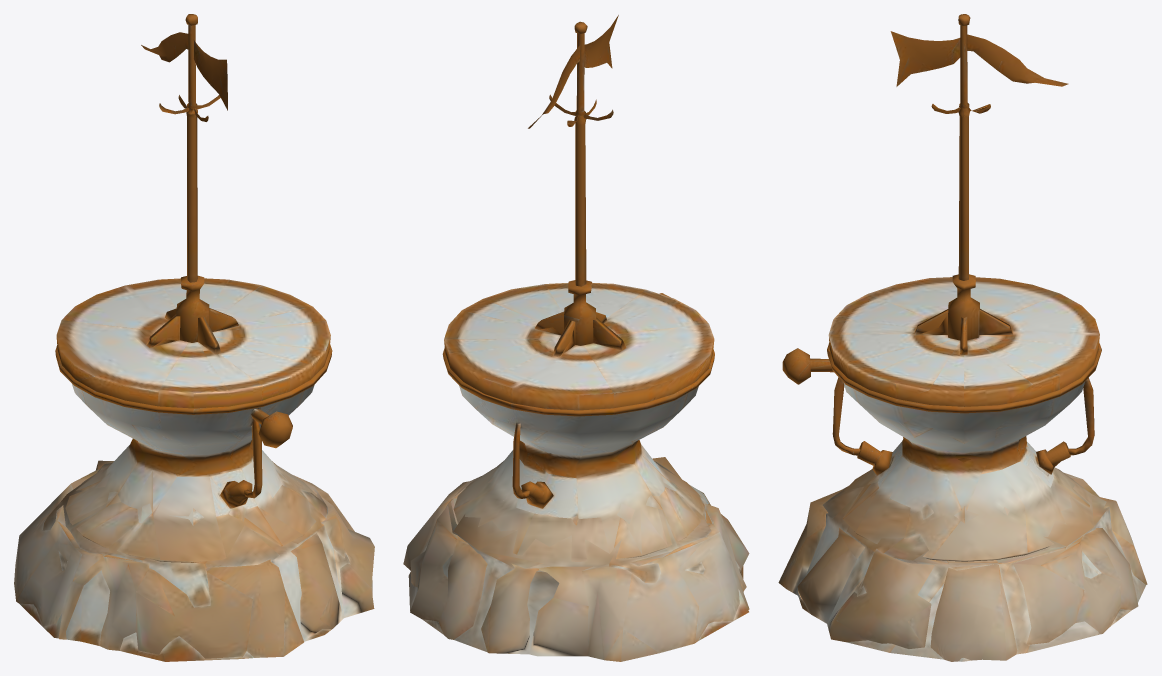
The model's file is glide-perch.glb.
3 views of the same model, side by side, from view 1: azimuth 30°, elevation 25°; view 2: azimuth 150°, elevation 25°; view 3: azimuth 270°, elevation 25° (orthographic).
Parts seen in each view (by area): view 1: glide-perch; view 2: glide-perch; view 3: glide-perch.
Part boxes in pixels (x1=…): glide-perch: x1=14, y1=14, x2=374, y2=661; glide-perch: x1=403, y1=15, x2=749, y2=661; glide-perch: x1=778, y1=14, x2=1147, y2=661.
Bounding box in the file's own units: 1.16 × 2 × 1.18.
Materials: 1 (1 with a texture image).
